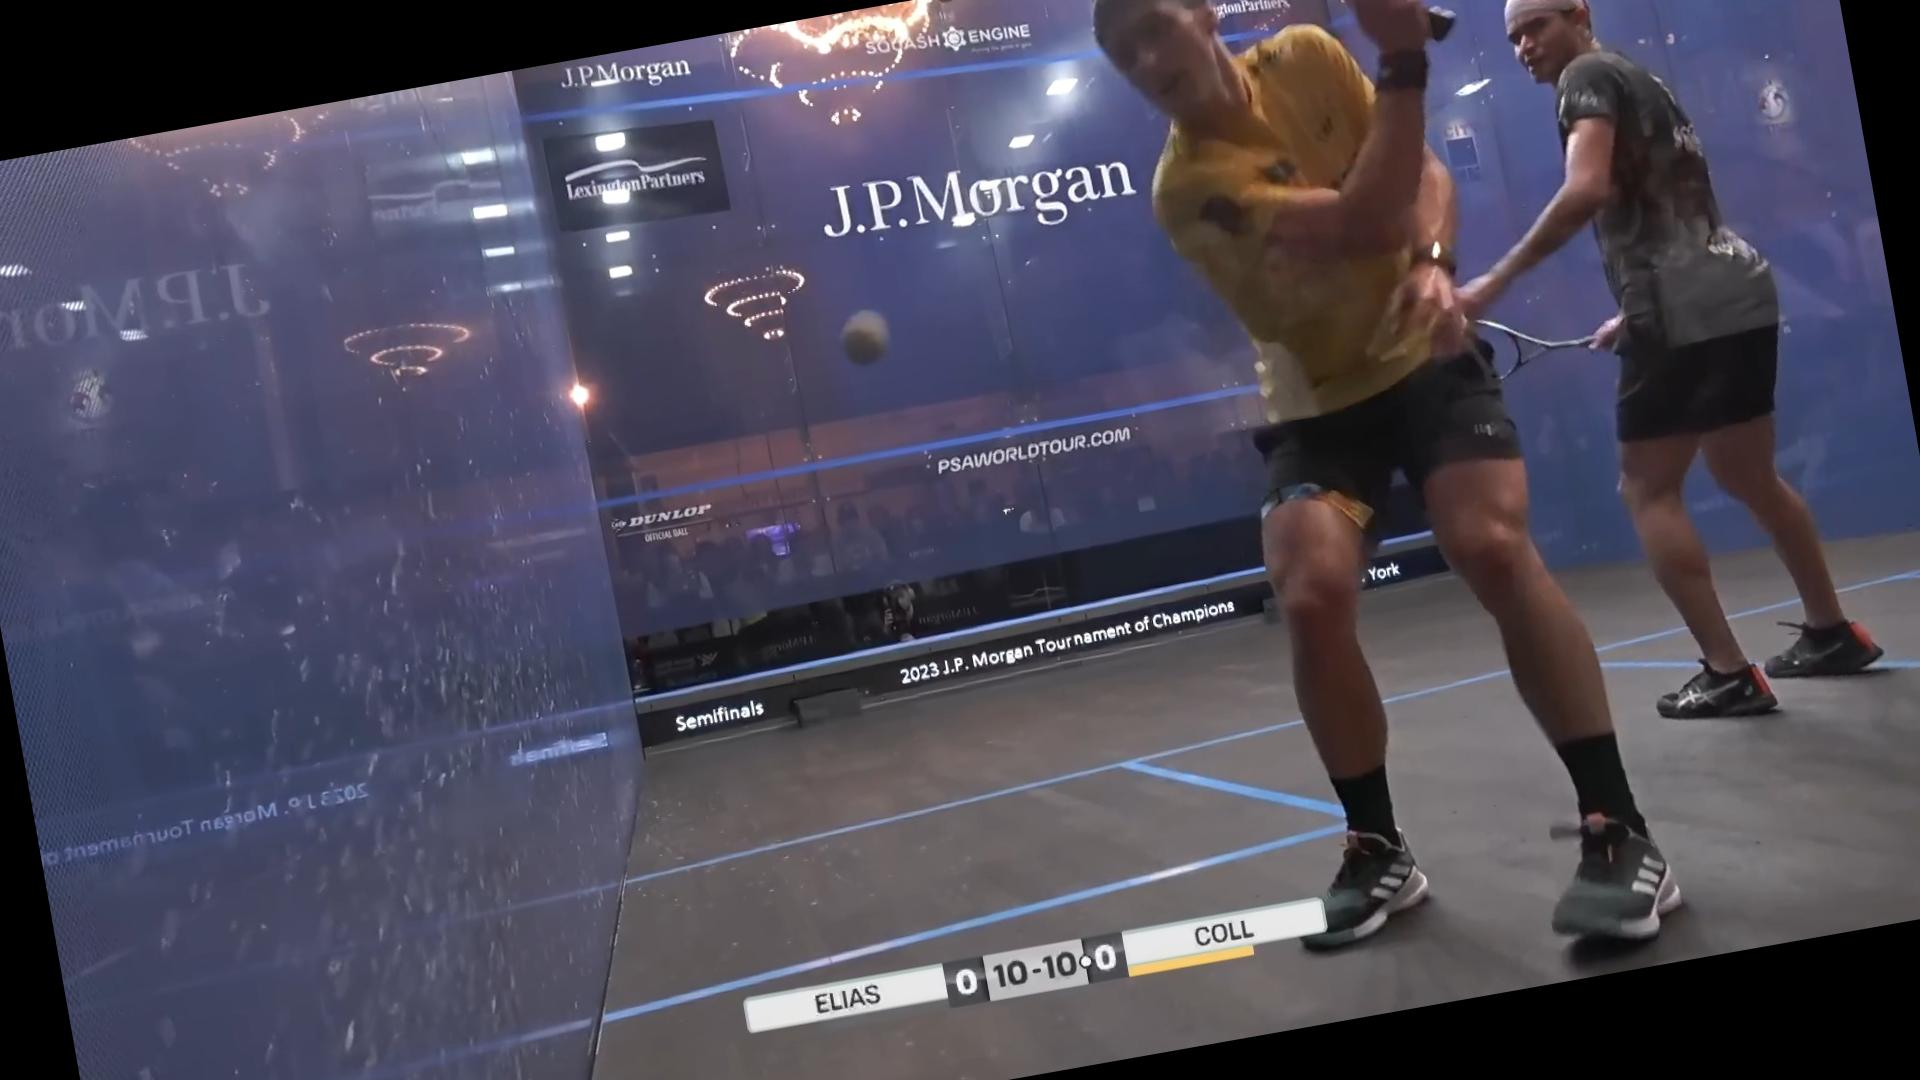Racket: (1462, 291, 1596, 393)
